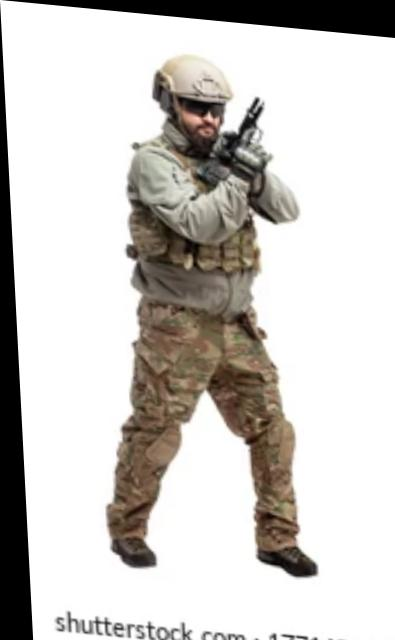other: (87, 43, 310, 579)
